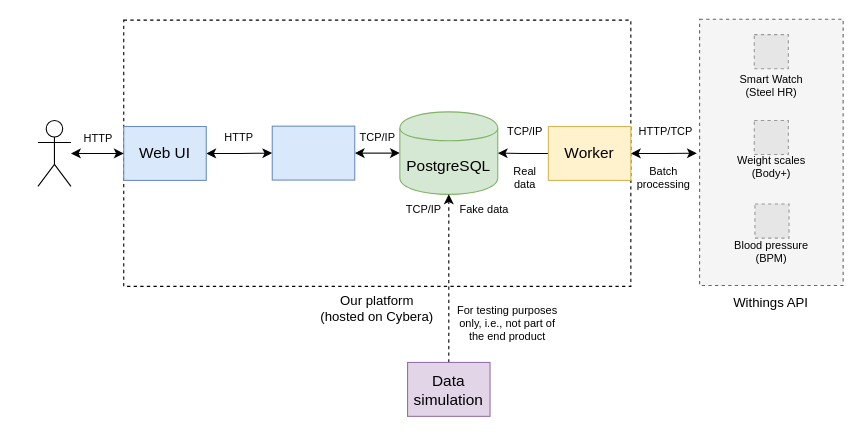
Some shapes in this 862 by 436 pixel diagram are drawn without their labels. Grey dashed boxes stand in for pictures. The centre of each missing label's shape, as x and y in pixels:
API: (x=313, y=152)
Specialist: (x=54, y=152)
